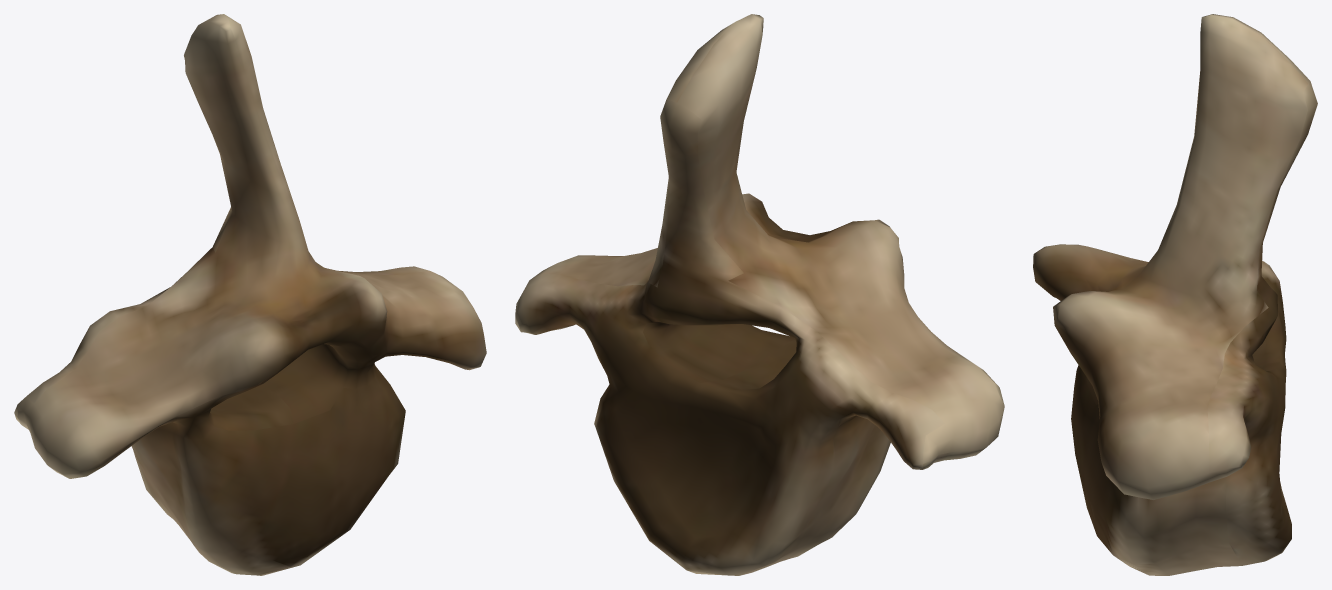
The model's file is Thoracic_Vertebrae11.glb.
The picture shows the model from 3 angles, left to right: view 1: azimuth 30°, elevation 25°; view 2: azimuth 150°, elevation 25°; view 3: azimuth 270°, elevation 25°; orthographic projection. The views are drawn at different scales.
Visible parts, largest first — view 1: polySurface239; view 2: polySurface239; view 3: polySurface239.
Part boxes in pixels (x1,y1,x2,y2): polySurface239: [14, 14, 486, 575]; polySurface239: [515, 14, 1004, 575]; polySurface239: [1033, 14, 1317, 575].
Bounding box in the file's own units: 0.1186 × 0.1409 × 0.0665.
Materials: 1 (1 with a texture image).
